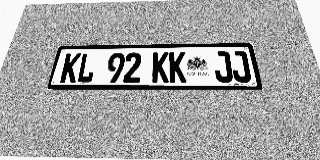2: (123, 52, 141, 83)
9: (105, 53, 125, 83)
J: (212, 51, 234, 82), (230, 51, 252, 82)
K: (59, 53, 82, 83), (169, 52, 187, 83), (152, 52, 169, 83)
L: (76, 53, 97, 83)
